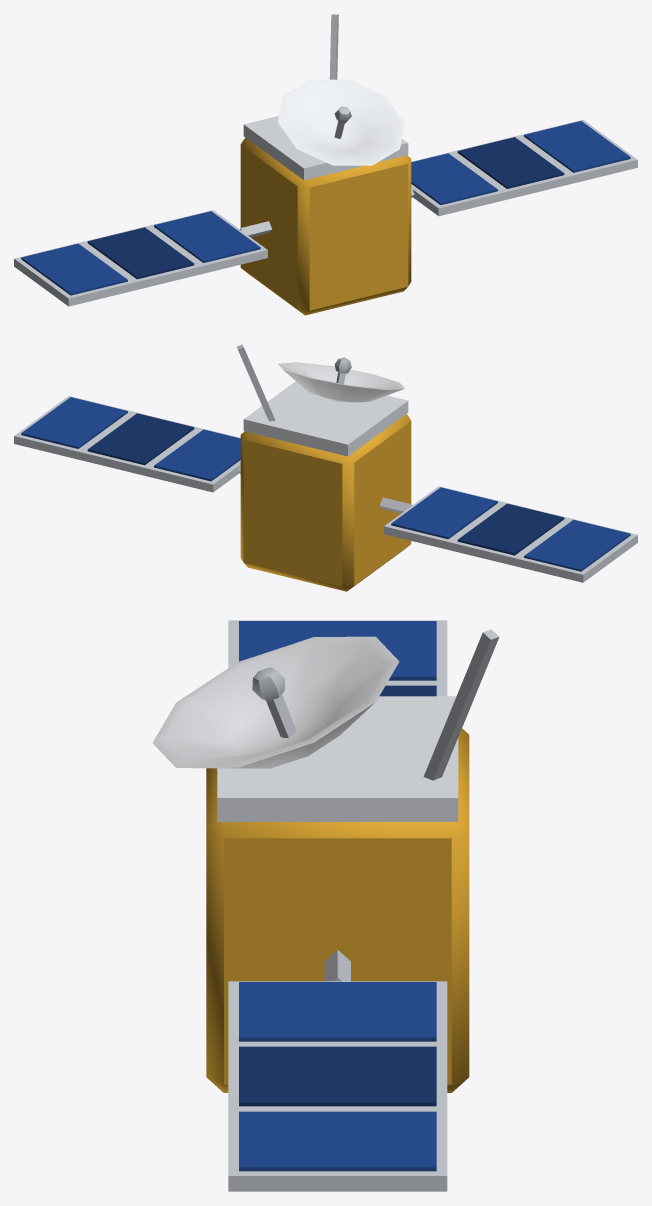
Rendered from satellite.glb.
3 renders of one model, top to bottom at view 1: azimuth 30°, elevation 25°; view 2: azimuth 150°, elevation 25°; view 3: azimuth 270°, elevation 25°, orthographic. The views are drawn at different scales.
Parts seen in each view (by area): view 1: body; view 2: body; view 3: body.
Part boxes in pixels (left/top/right/bottom): body: left=14, top=14, right=637, bottom=315; body: left=14, top=344, right=637, bottom=591; body: left=153, top=620, right=499, bottom=1191.
Size of the model in its own units: 60 by 23.12 by 15.84.
